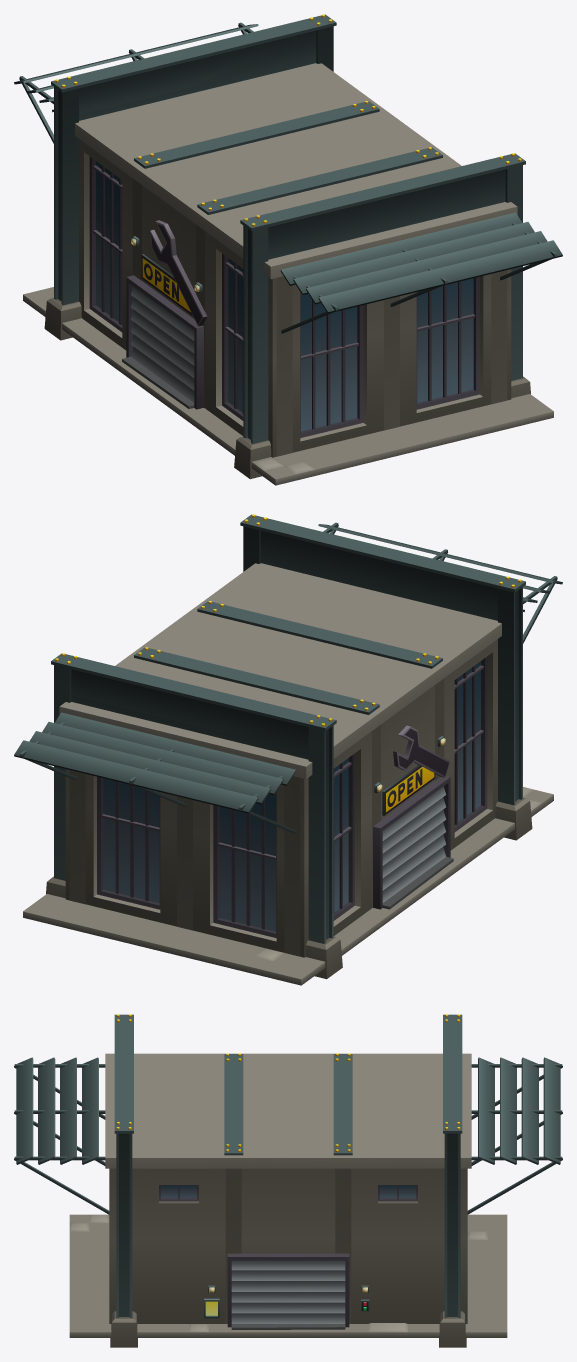
The model's file is Warehouse_5C.fbx.
3 renders of one model, top to bottom at view 1: azimuth 30°, elevation 25°; view 2: azimuth 150°, elevation 25°; view 3: azimuth 270°, elevation 25°, orthographic. The views are drawn at different scales.
Visible parts, largest first — view 1: Warehouse_5C; view 2: Warehouse_5C; view 3: Warehouse_5C.
Part boxes in pixels (left/top/right/bottom): Warehouse_5C: left=14, top=14, right=562, bottom=485; Warehouse_5C: left=14, top=514, right=562, bottom=985; Warehouse_5C: left=14, top=1014, right=562, bottom=1347.
Size of the model in its own units: 14.19 by 12.01 by 27.58.
